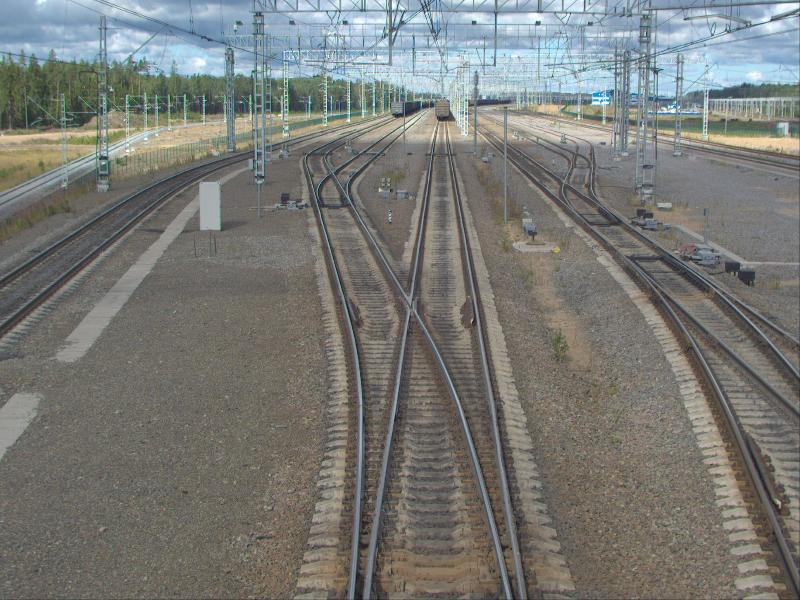straight: (306, 164, 355, 206)
